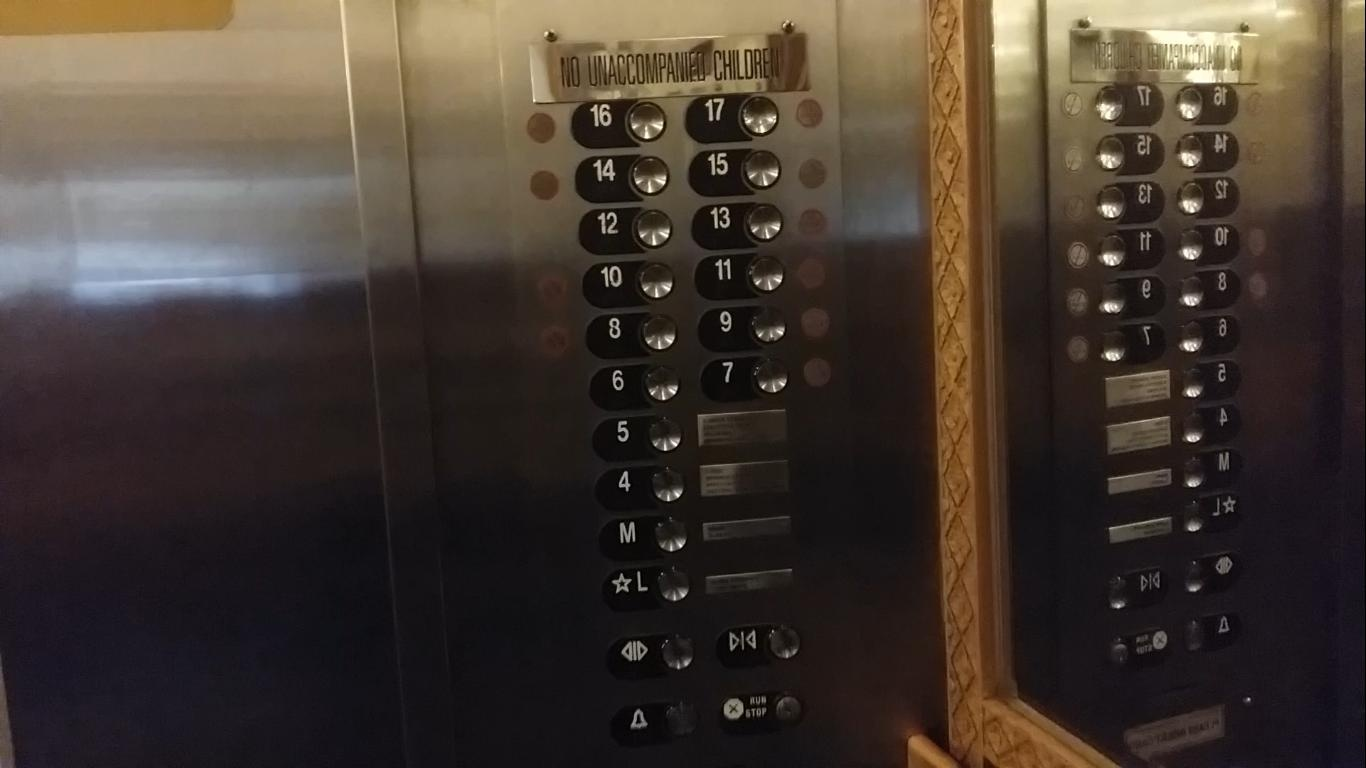10: (582, 259, 678, 308)
11: (585, 309, 681, 358), (694, 252, 787, 301)
12: (578, 206, 675, 255)
13: (689, 202, 784, 249)
14: (575, 151, 671, 202)
15: (688, 145, 784, 197)
16: (569, 97, 670, 149)
17: (682, 91, 781, 144)
4: (593, 464, 689, 510)
5: (593, 412, 687, 460)
6: (587, 363, 685, 410)
7: (700, 355, 791, 400)
9: (697, 303, 789, 351)
M: (599, 513, 692, 558), (1177, 449, 1240, 488)
alarm: (611, 698, 702, 743), (1180, 610, 1242, 652)
close: (716, 621, 805, 667), (1100, 568, 1168, 612)
open: (608, 628, 700, 676), (1177, 552, 1240, 597)
sL: (602, 563, 694, 609)
stop: (719, 688, 809, 731), (1107, 623, 1172, 667)
unknown: (1091, 76, 1166, 126), (1093, 126, 1166, 176), (1093, 272, 1166, 321), (1094, 223, 1166, 270), (1095, 323, 1164, 369), (1095, 177, 1165, 221), (1174, 79, 1239, 125), (1175, 173, 1241, 217), (1174, 129, 1240, 171), (1177, 403, 1244, 444), (1176, 222, 1239, 265), (1177, 359, 1243, 399), (1176, 313, 1240, 353), (1176, 494, 1239, 534), (1176, 268, 1241, 306)
